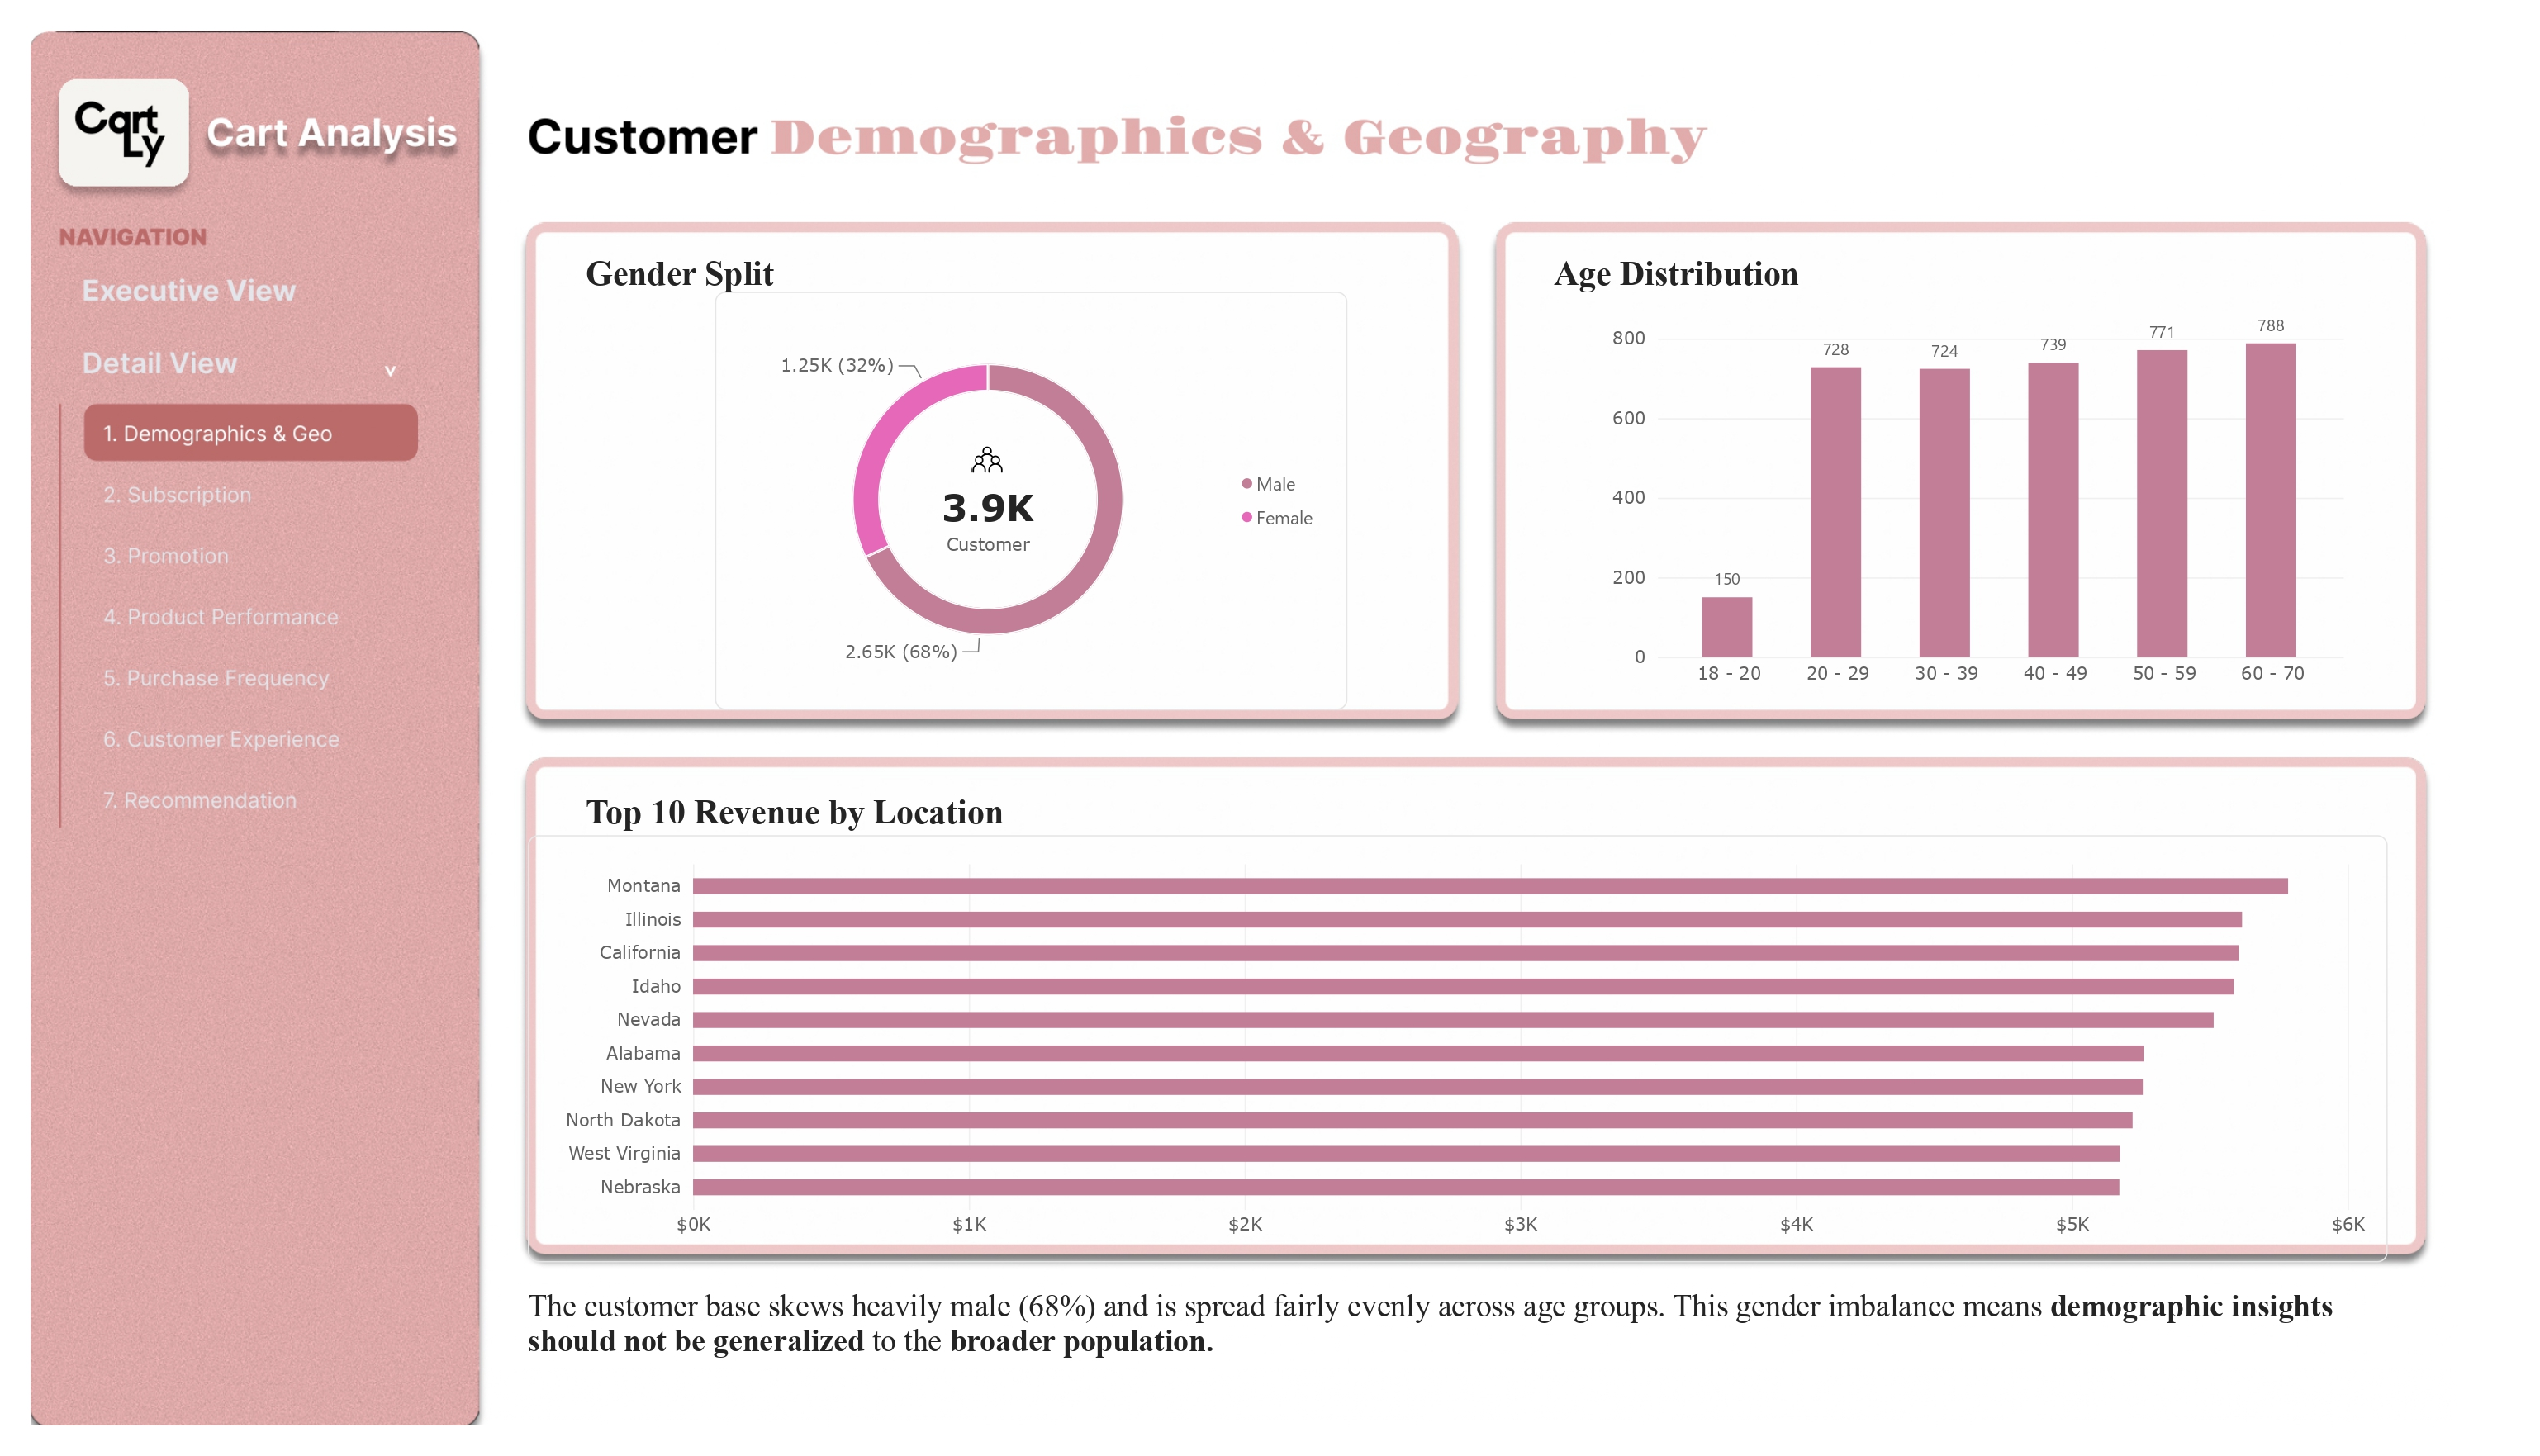

The page's visual inventory and layout, read from the dashboard file:
{"tool":"powerbi","page":{"name":"Demographic Page","canvas":[1920,1080],"ordinal":1},"visuals":[{"type":"image","box":[0,0,1892.5,1080],"z":0},{"type":"actionButton","box":[21.8,172.9,280.9,52.7],"z":0,"group":"g1"},{"type":"donutChart","fields":{"Category":["Customer_Shopping_Behavior_Clean_Update2.gender"],"Y":["CountNonNull(Customer_Shopping_Behavior_Clean_Update2.customer_id)"]},"box":[530,202,490,323.8],"z":1000},{"type":"actionButton","box":[21.9,231.2,281,52],"z":1000,"group":"g1"},{"type":"clusteredColumnChart","fields":{"Category":["Customer_Shopping_Behavior_Clean_Update2.Age Group"],"Y":["CountNonNull(Customer_Shopping_Behavior_Clean_Update2.customer_id)"]},"box":[1208.8,192.5,598.8,333.8],"z":2000},{"type":"actionButton","box":[40.9,287.7,260.5,46],"z":2000,"group":"g1"},{"type":"actionButton","box":[40.9,334.6,260.4,46.1],"z":3000,"group":"g1"},{"type":"clusteredBarChart","fields":{"Category":["Customer_Shopping_Behavior_Clean_Update2.location"],"Y":["Sum(Customer_Shopping_Behavior_Clean_Update2.purchase_amount_usd)"]},"box":[385.5,622.7,1440.9,330.9],"z":3000},{"type":"textbox","box":[430,173,200,40],"z":4000},{"type":"actionButton","box":[40.9,383.1,260,46.1],"z":4000,"group":"g1"},{"type":"textbox","box":[1180,173,200,40],"z":5000},{"type":"actionButton","box":[40.9,432.8,260,46],"z":5000,"group":"g1"},{"type":"actionButton","box":[40.9,480.4,260,46],"z":6000,"group":"g1"},{"type":"textbox","box":[430,590,557.5,42.5],"z":6000},{"type":"actionButton","box":[40.9,526.4,260,46],"z":7000,"group":"g1"},{"type":"textbox","box":[385,975,1467.5,70],"z":7000},{"type":"group","id":"g1","title":"Side Bar","box":[21.8,172.9,280.6,445.3],"z":8000},{"type":"actionButton","box":[40.9,572.5,260,46],"z":8000,"group":"g1"},{"type":"shape","box":[1880,0,40,1080],"z":8001}]}

Visuals, with their boxes on the page's 1920x1080 design canvas (x1, y1, x2, y2). These are canvas units, not pixel positions in the 2540x1456 screenshot, which may show the page scaled, cropped or inside an application window:
image: select_region(0, 0, 1892, 1080)
actionButton: select_region(22, 173, 303, 226)
donutChart - Customer_Shopping_Behavior_Clean_Update2.gender x CountNonNull(Customer_Shopping_Behavior_Clean_Update2.customer_id): select_region(530, 202, 1020, 526)
actionButton: select_region(22, 231, 303, 283)
clusteredColumnChart - Customer_Shopping_Behavior_Clean_Update2.Age Group x CountNonNull(Customer_Shopping_Behavior_Clean_Update2.customer_id): select_region(1209, 192, 1808, 526)
actionButton: select_region(41, 288, 301, 334)
actionButton: select_region(41, 335, 301, 381)
clusteredBarChart - Customer_Shopping_Behavior_Clean_Update2.location x Sum(Customer_Shopping_Behavior_Clean_Update2.purchase_amount_usd): select_region(386, 623, 1826, 954)
textbox: select_region(430, 173, 630, 213)
actionButton: select_region(41, 383, 301, 429)
textbox: select_region(1180, 173, 1380, 213)
actionButton: select_region(41, 433, 301, 479)
actionButton: select_region(41, 480, 301, 526)
textbox: select_region(430, 590, 988, 632)
actionButton: select_region(41, 526, 301, 572)
textbox: select_region(385, 975, 1852, 1045)
"Side Bar" group: select_region(22, 173, 302, 618)
actionButton: select_region(41, 572, 301, 618)
shape: select_region(1880, 0, 1920, 1080)
